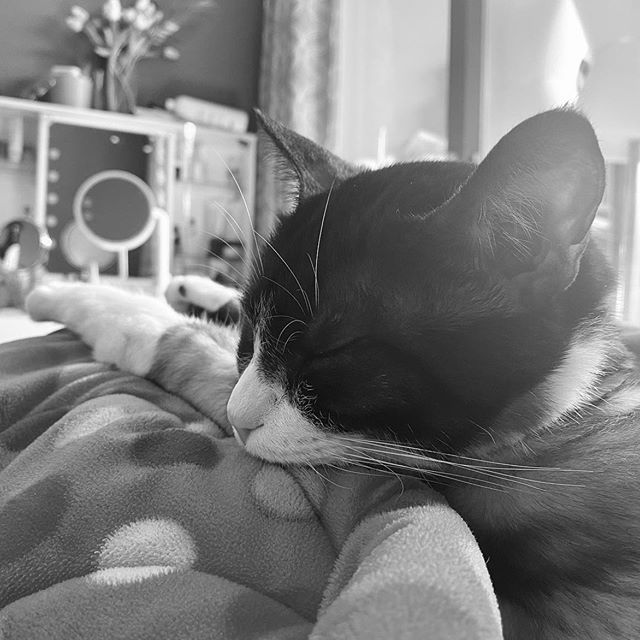cat: (197, 95, 617, 515)
